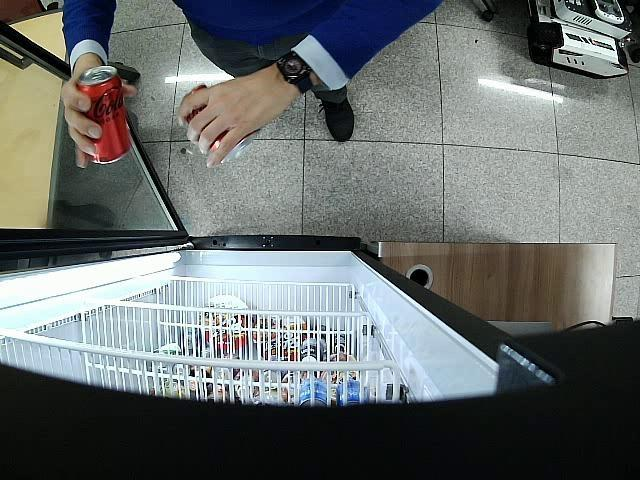11_cocaColaZero: (184, 84, 259, 162), (76, 66, 133, 164)
